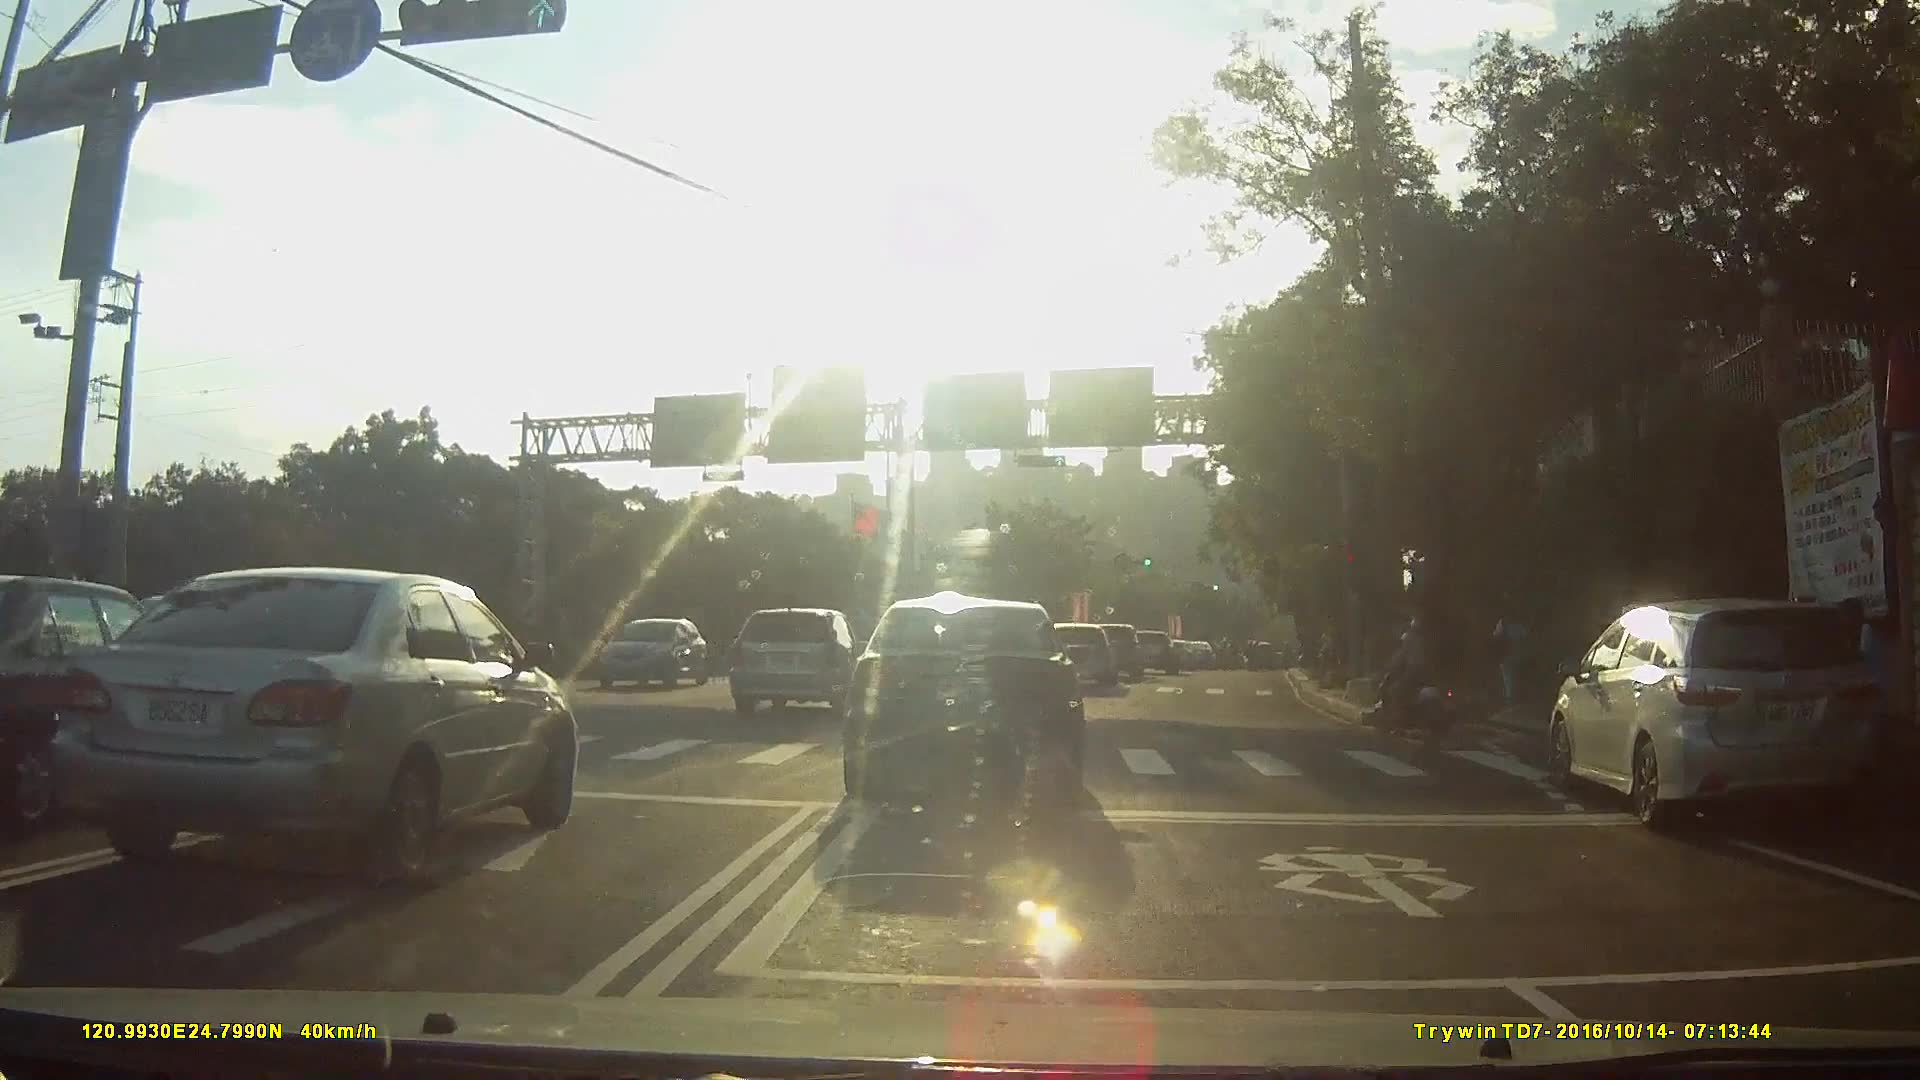pedestrian: (1836, 597, 1885, 738), (1491, 594, 1540, 719)
rider: (1375, 617, 1474, 744)
vehicle: (56, 567, 592, 882), (1536, 590, 1859, 850), (835, 598, 1103, 816), (1, 572, 198, 828), (738, 603, 882, 713), (595, 617, 729, 698), (1052, 623, 1126, 693), (1092, 619, 1154, 677), (1133, 627, 1190, 672), (1189, 638, 1224, 666)
